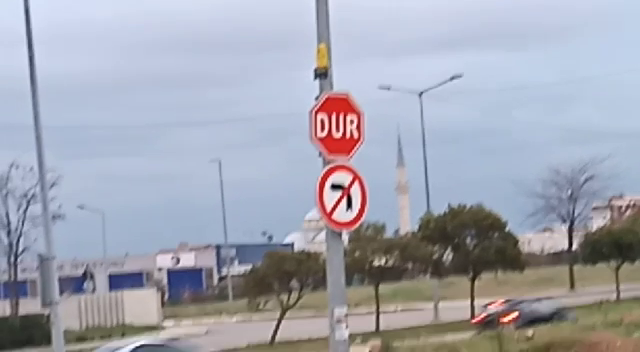no_left: (314, 160, 369, 234)
stop: (306, 89, 368, 164)
